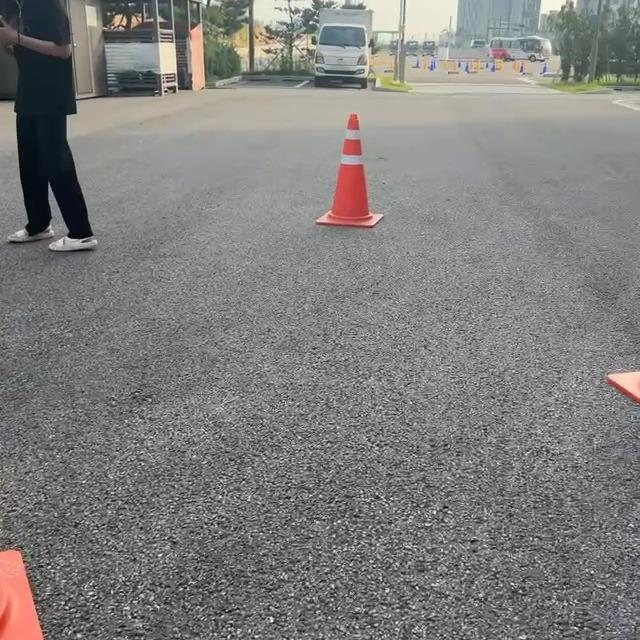fallen_object: (290, 90, 429, 271)
